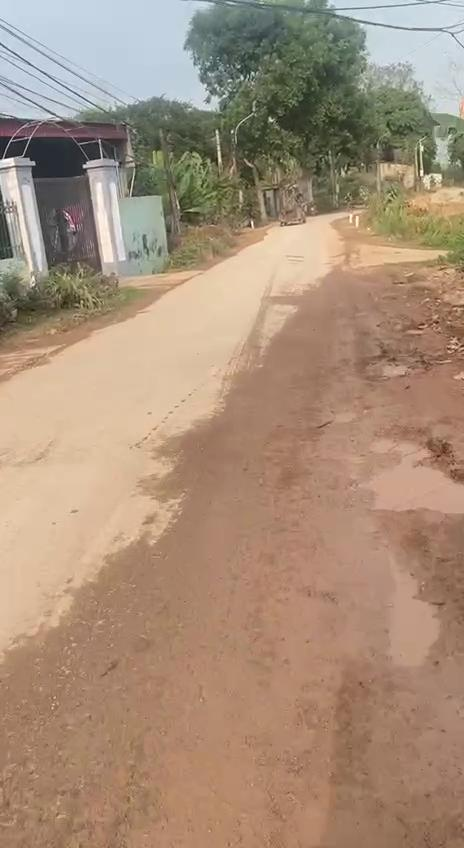pothole: (364, 432, 464, 519), (374, 558, 444, 670)
